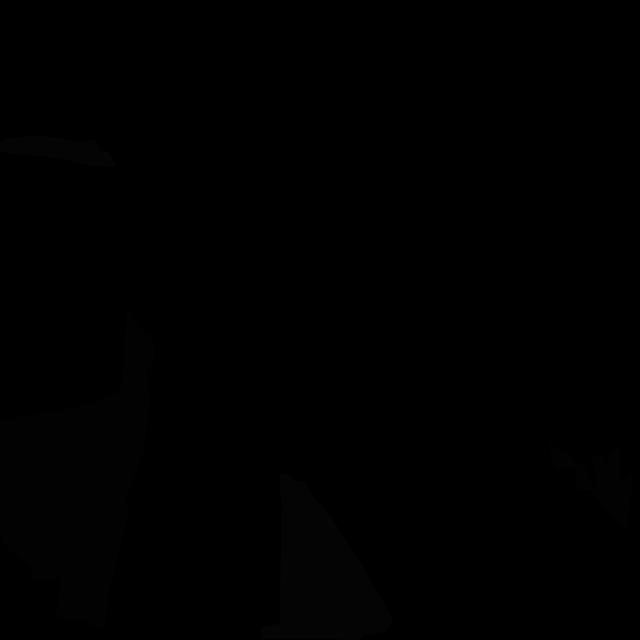cardboard: (0, 307, 156, 627), (548, 443, 633, 531)
soft_plastic: (261, 473, 392, 640), (0, 135, 117, 167)
